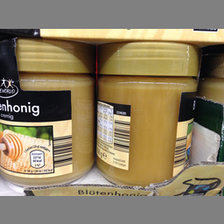honey: (97, 41, 201, 187), (1, 39, 95, 186)
